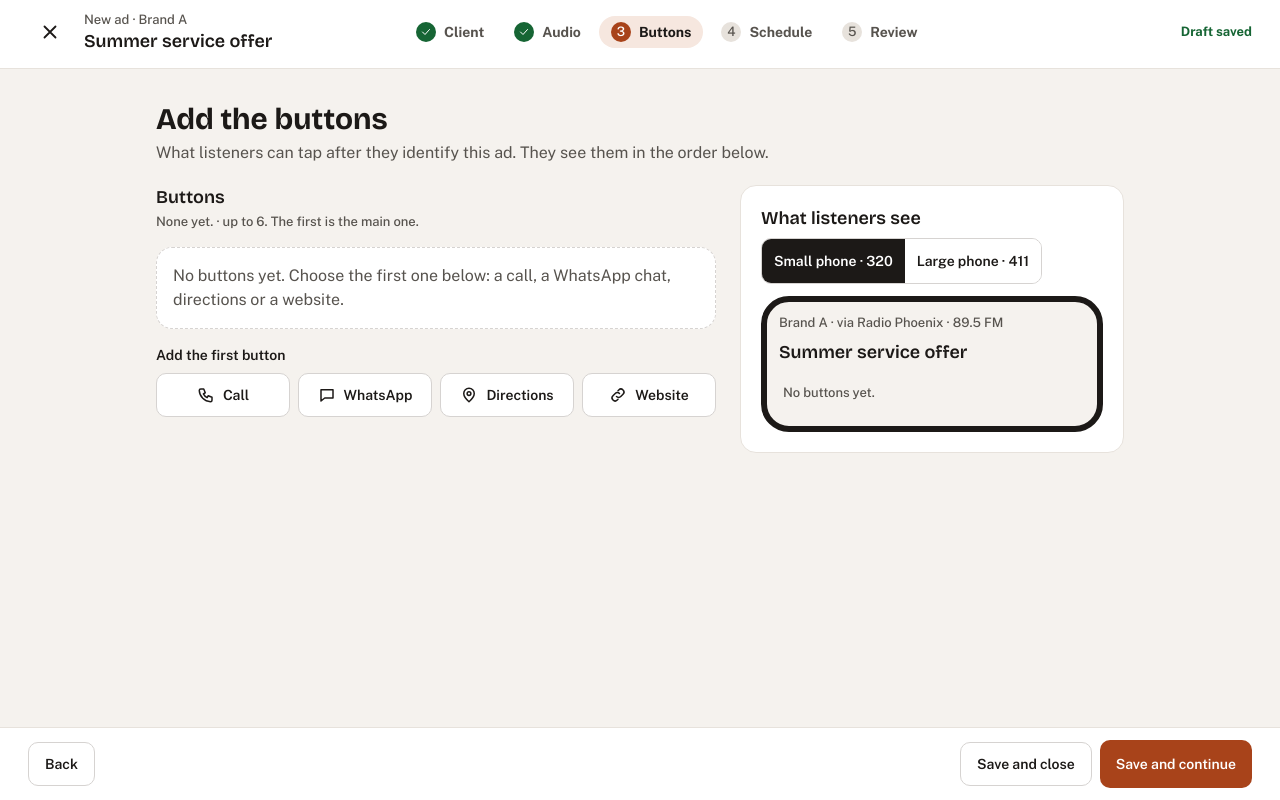
Test: The buttons step › adding and changing a button › gives a new button a starting label and says nothing is wrong until the person leaves the field
The width and height of the screenshot is (1280, 800).
Expected: the heading "Add the buttons" is shown, [156,101,388,137]
Step 1. Click the button with aria-label "Add a Call button" → (223, 395), box [156,373,290,417]
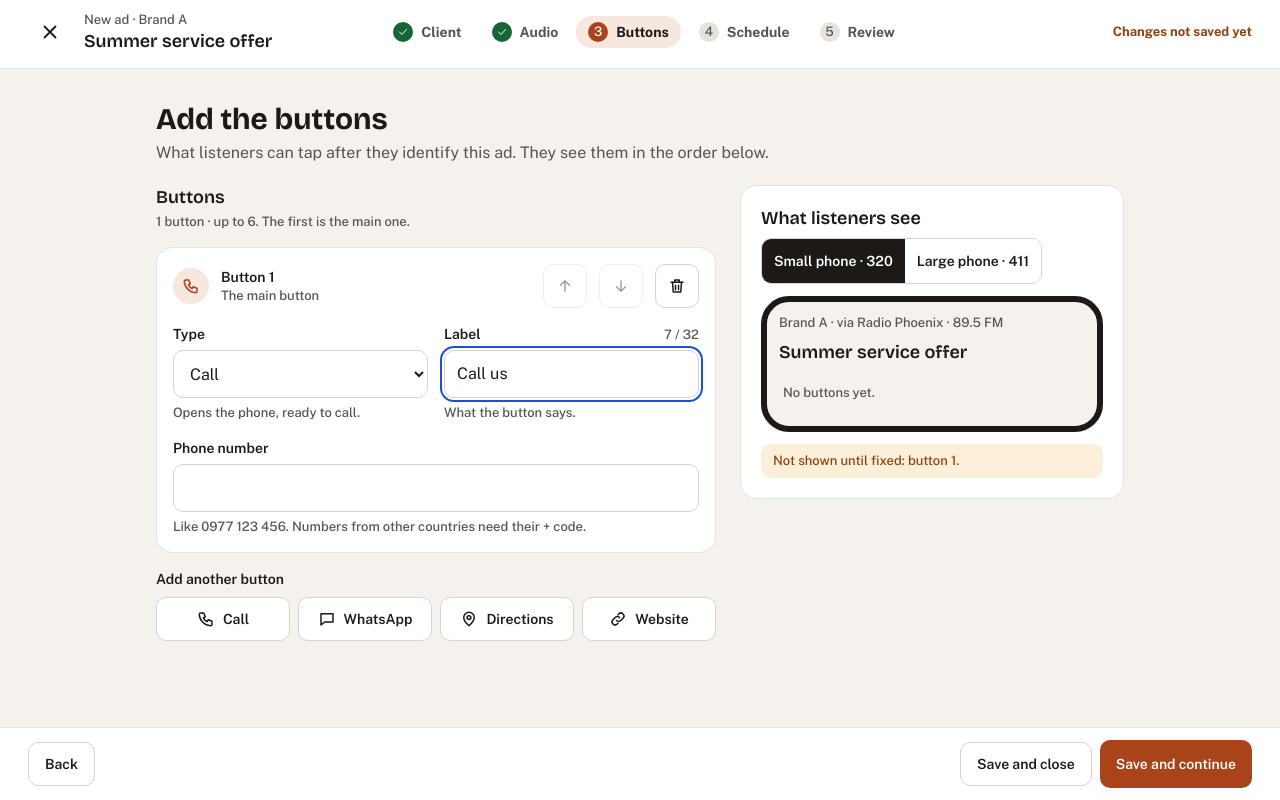
Expected: the text "Enter the phone number." is not shown
Expected: the text "The main button" is shown, [221,288,319,303]
Step 2. Click the field labelled "Phone number" → (436, 488), box [173,464,699,512]
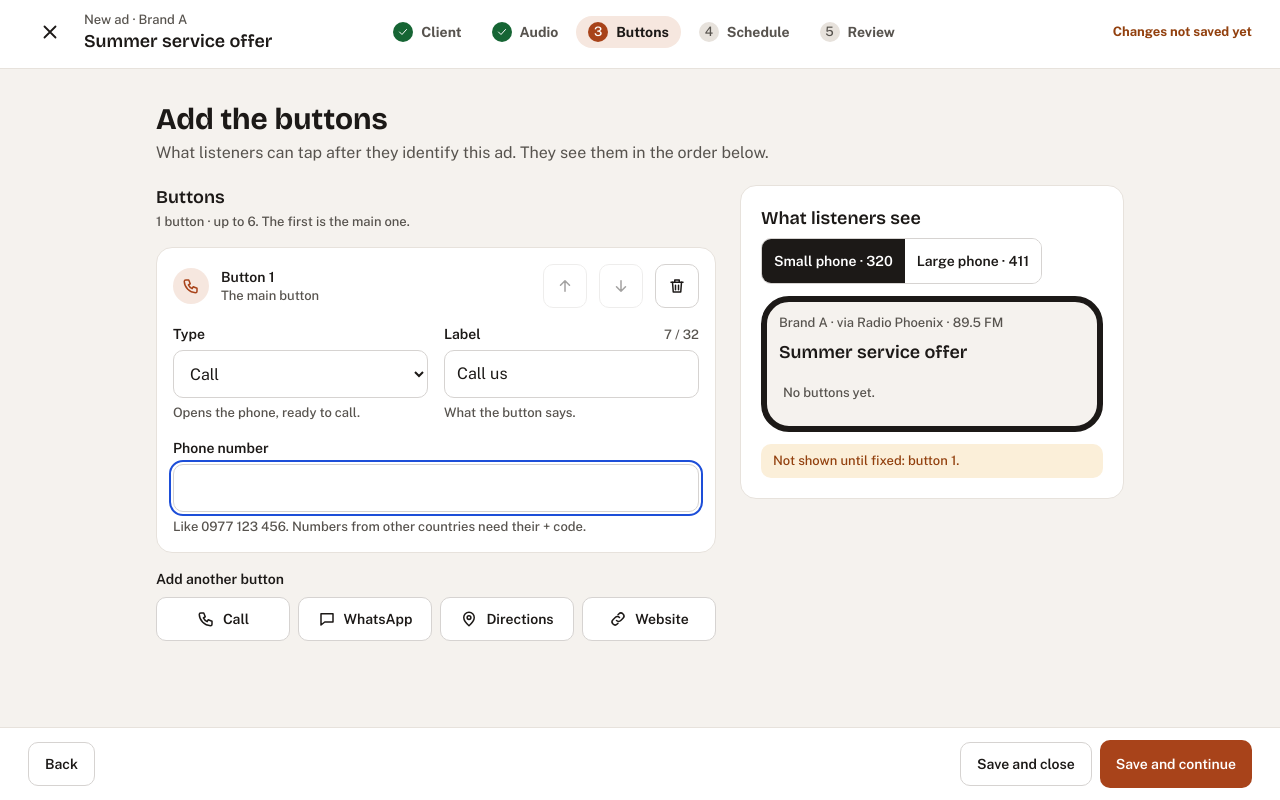
Step 3. Press Tab
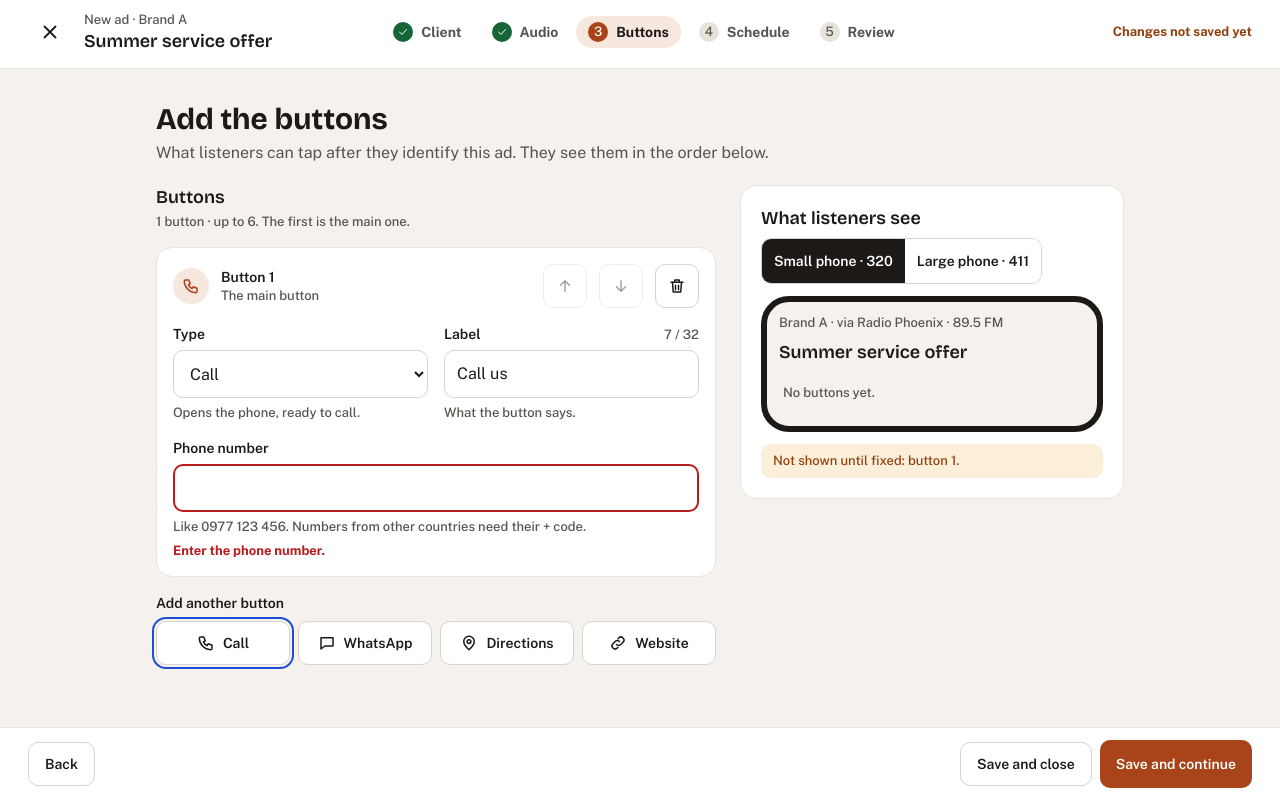
Expected: the text "Enter the phone number." is shown, [173,543,325,558]
Step 4. Type "0977 123 456" into the field labelled "Phone number" → (436, 488), box [173,464,699,512]
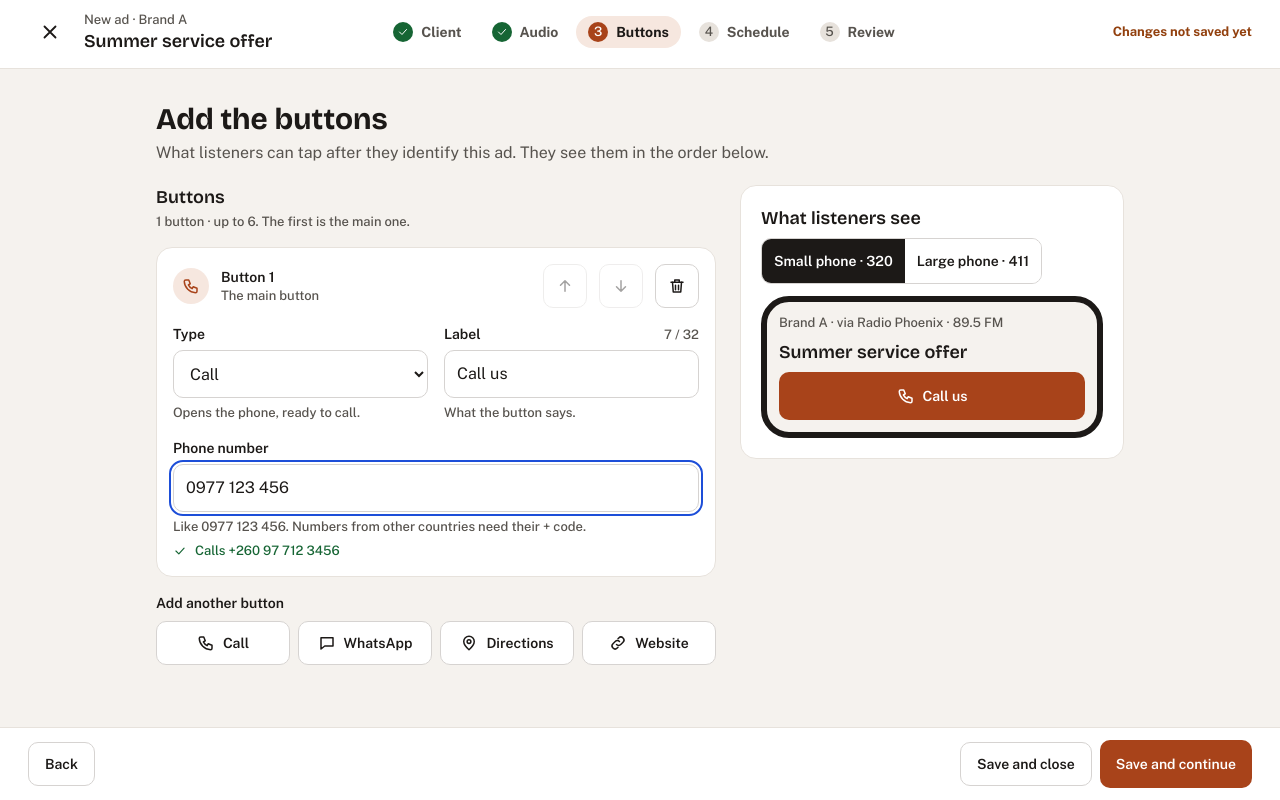
Expected: the text "Enter the phone number." is gone
Expected: the text "Calls +260 97 712 3456" is shown, [173,543,340,558]
Expected: the text "Call us" is shown, [922,386,968,406]
